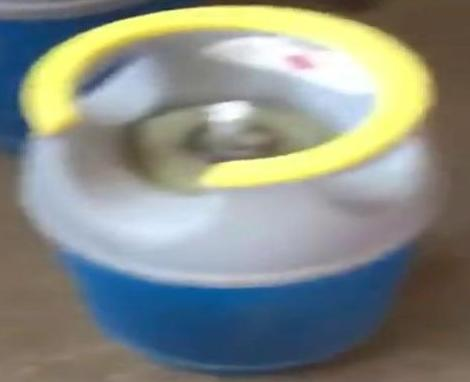cylinder: (1, 1, 470, 382)
